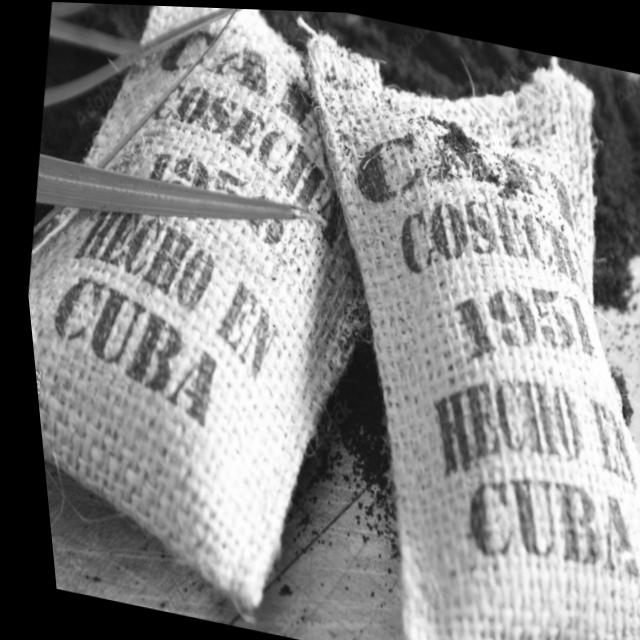sack: (0, 0, 439, 636), (199, 7, 640, 640)
